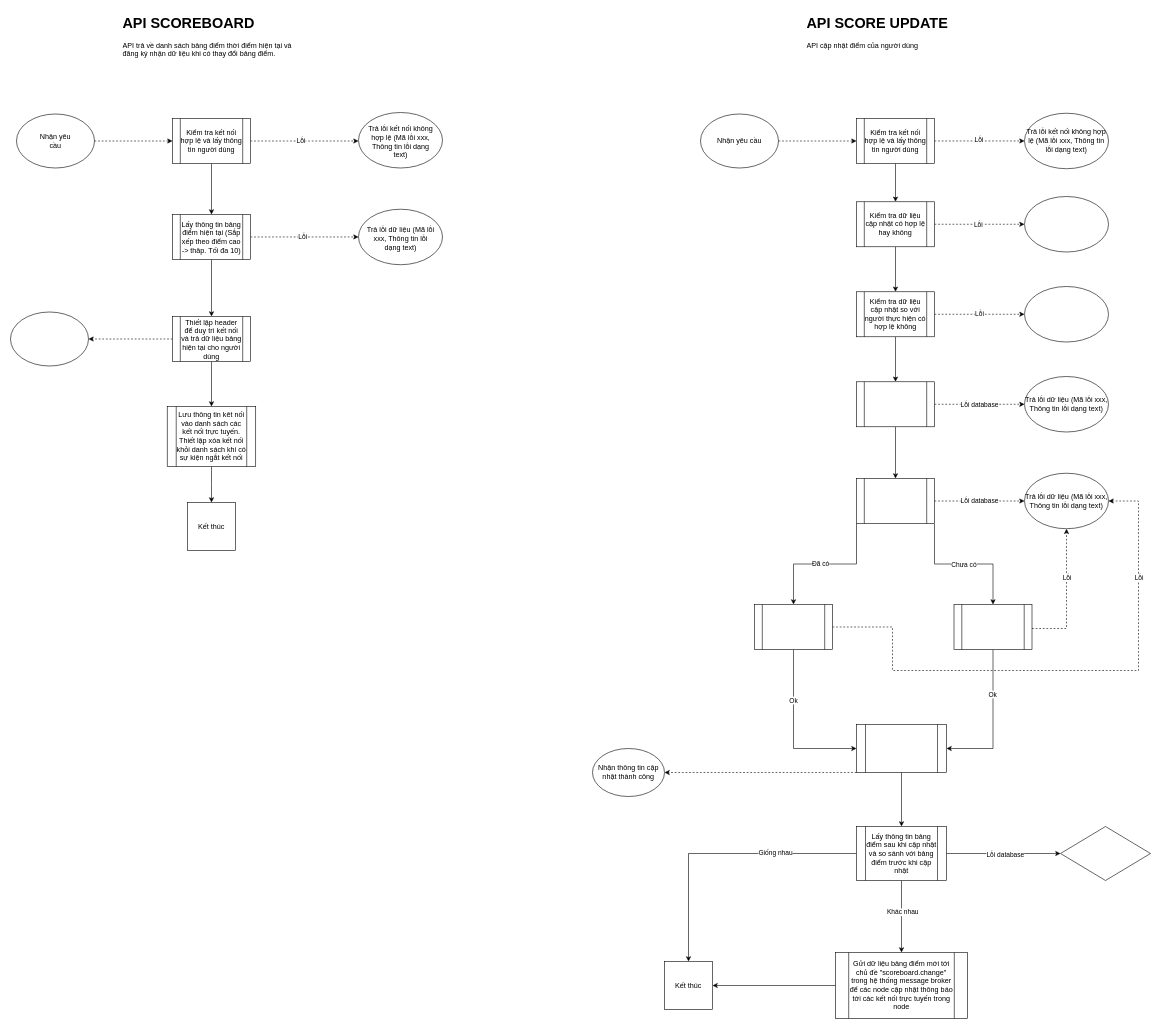
Some shapes in this 1161 by 1029 pixel diagram are drawn without their labels. Each missing label, with the box of its shape:
Cập nhật điểm của người dùng trong db: (754, 604, 832, 650)
Lưu log, bắn cảnh báo: (1060, 826, 1150, 880)
Lấy thông tin bảng điểm hiện tại: (856, 381, 934, 427)
Lấy thông tin điểm hiện tại của người dùng: (856, 478, 934, 524)
Nhận dữ liệu và hiển thị: (10, 311, 88, 366)
Trả lỗi dữ liệu không hợp lệ (Mã lỗi xxx, Thông tin lỗi dạng text): (1024, 196, 1108, 252)
Trả lỗi không có quyền thực hiện (Mã lỗi xxx, Thông tin lỗi dạng text): (1024, 286, 1108, 342)
Trả thông tin cập nhật thành công cho client: (856, 724, 946, 772)
Tạo bản ghi điểm của người dùng trong db: (953, 604, 1032, 650)
